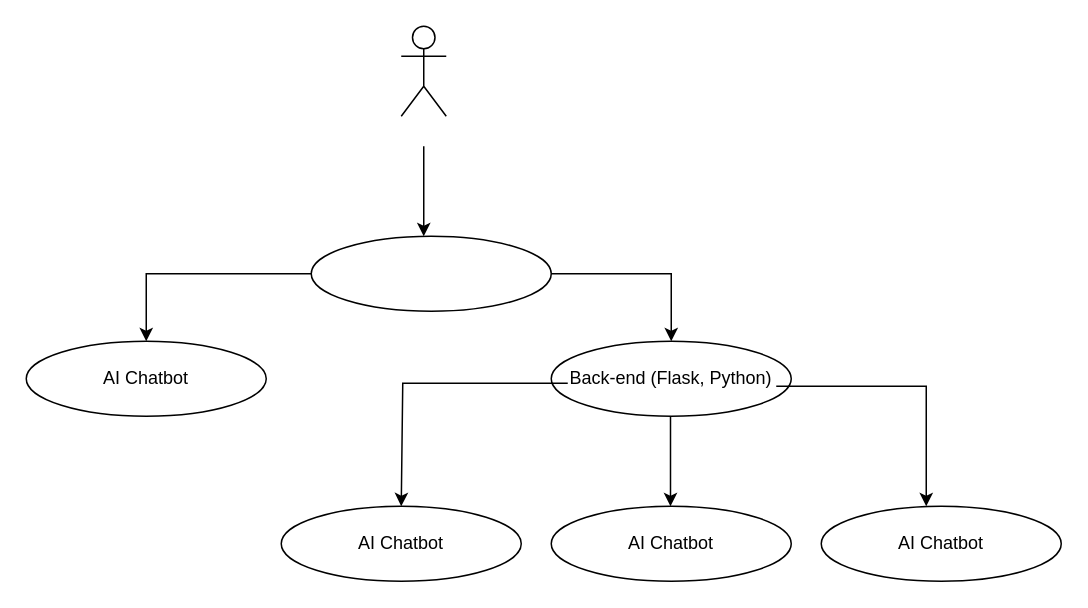
The diagram is 1088 pixels wide and 608 high, and some of its shapes have lost their labels. Each missing label, with the centre of its shape:
End-user: the point at 423,70
Front-end (React): the point at 430,273
